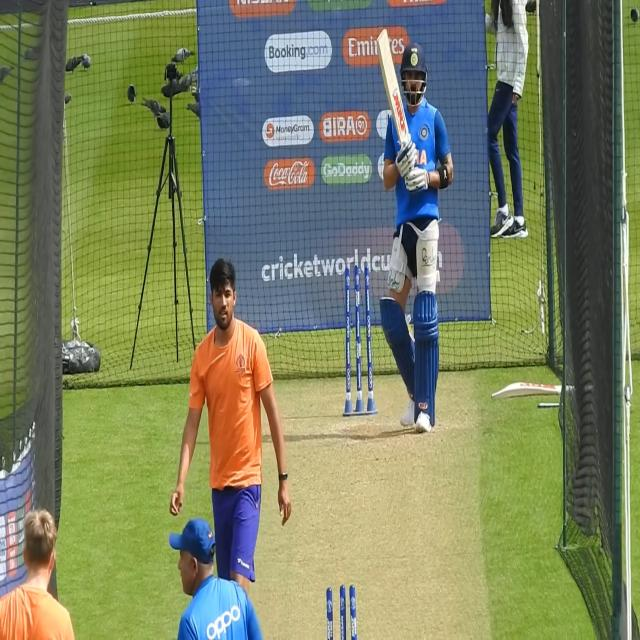stump: (342, 263, 377, 419)
